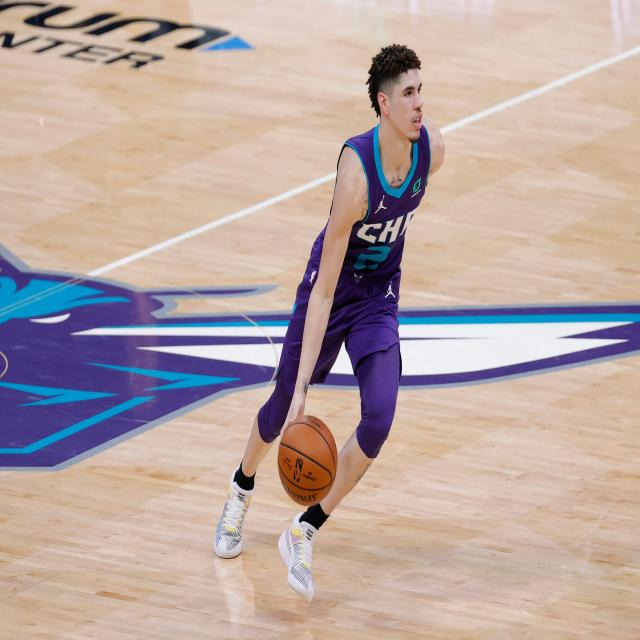basketball: (277, 415, 338, 506)
